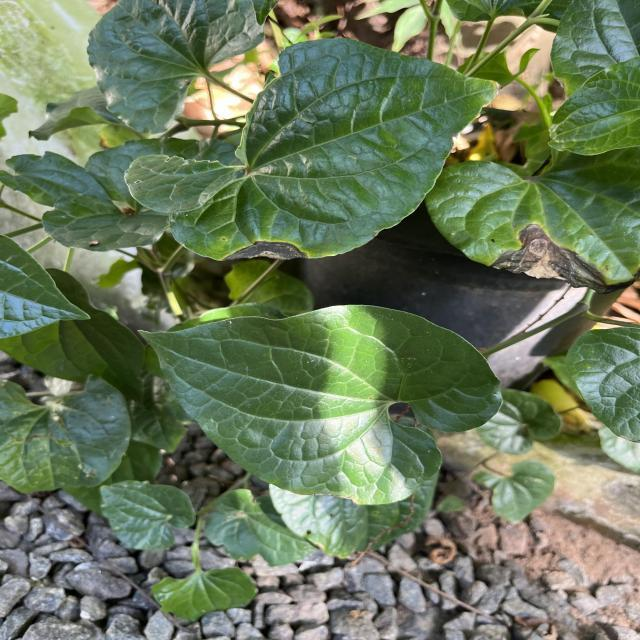Piper longum: (134, 303, 506, 507)
